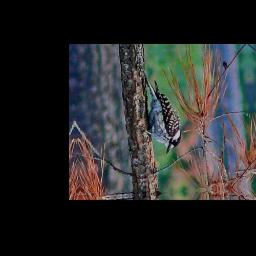Woodpecker: (132, 69, 189, 160)
